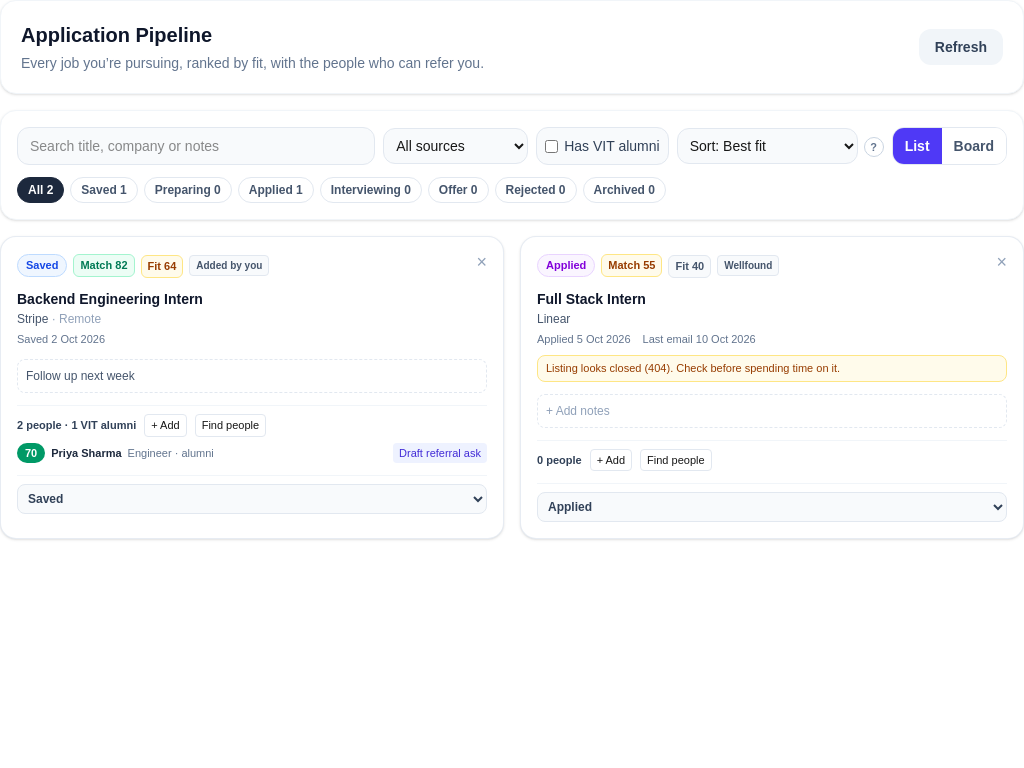
Scenario: ApplicationsPipeline › rolls back a failed stage change and shows an inline error
Select "Offer" in the dropdown named "Stage" below "Priya Sharma". click: coordinates (252, 499)
box: [17,484,487,514]
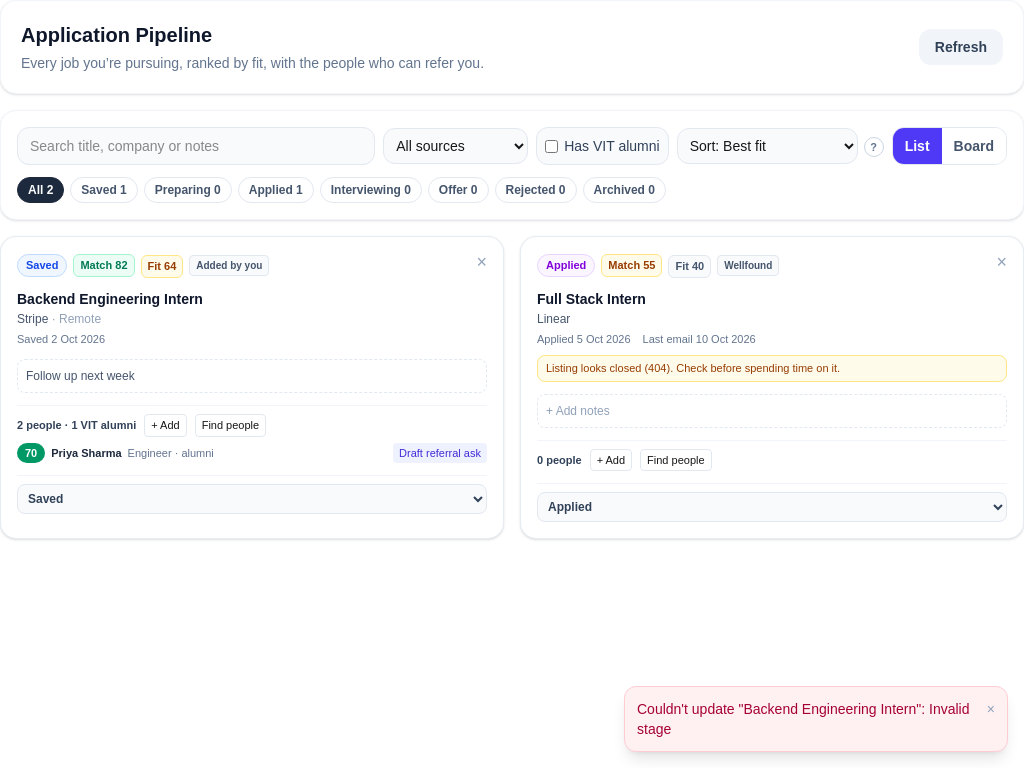
Expected: the message shows "Invalid stage", [637,701,970,737]
